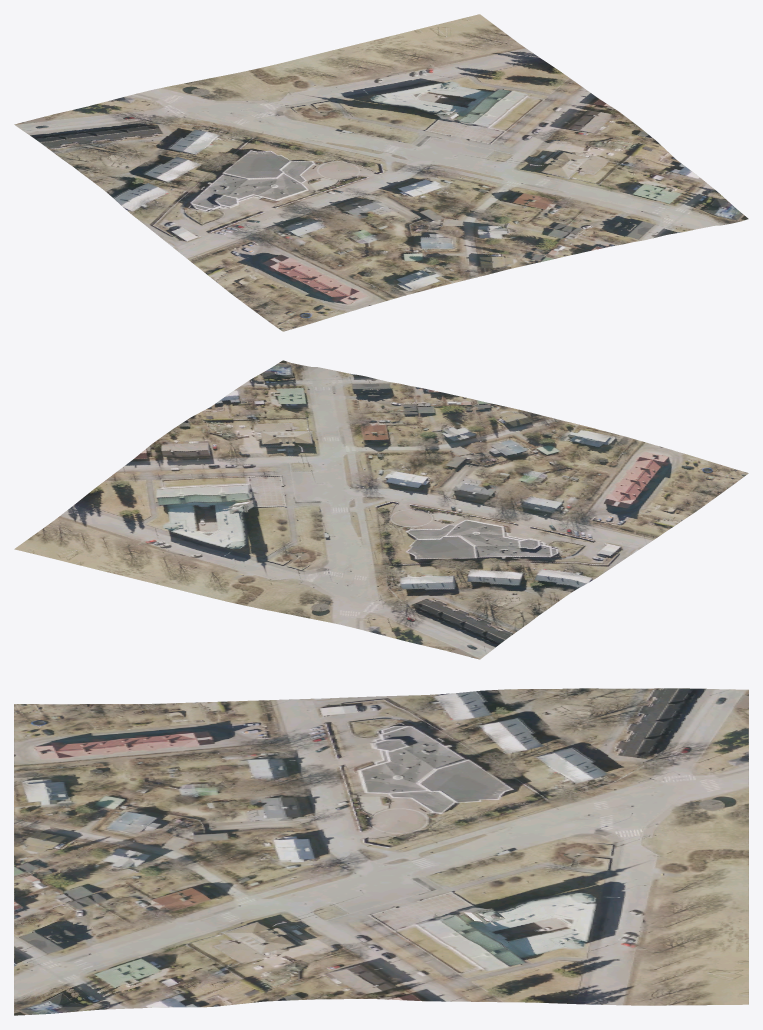
File: CM_Terrain_24488410_6819589.fbx
3 views of the same model, one above another, from view 1: azimuth 30°, elevation 25°; view 2: azimuth 150°, elevation 25°; view 3: azimuth 270°, elevation 25° (orthographic). The views are drawn at different scales.
Parts seen in each view (by area): view 1: CM_Terrain_24488410_6819589_LOD0; view 2: CM_Terrain_24488410_6819589_LOD0; view 3: CM_Terrain_24488410_6819589_LOD0.
Part boxes in pixels (left/top/right/bottom): CM_Terrain_24488410_6819589_LOD0: left=14, top=14, right=748, bottom=331; CM_Terrain_24488410_6819589_LOD0: left=14, top=360, right=748, bottom=659; CM_Terrain_24488410_6819589_LOD0: left=14, top=688, right=748, bottom=1015.
Size of what is drawn, in the model's own units: 205 by 5.83 by 205.
